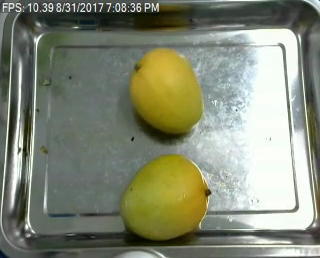Mango: (119, 155, 208, 241), (128, 48, 202, 135)
